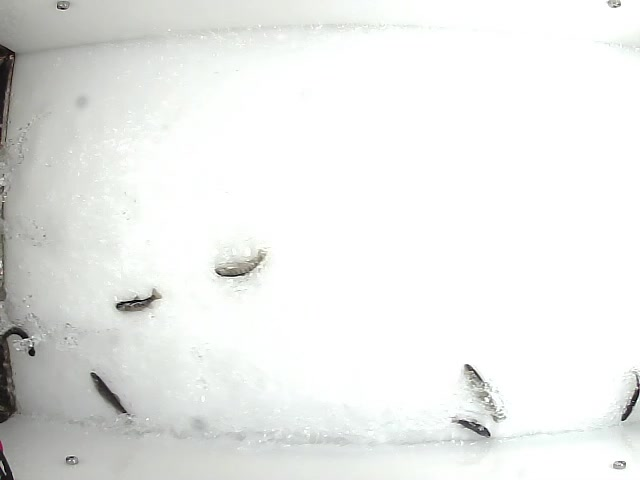fish: (462, 362, 504, 424), (89, 371, 134, 418), (213, 246, 268, 278), (114, 285, 163, 315), (617, 367, 640, 424), (451, 418, 494, 441)
